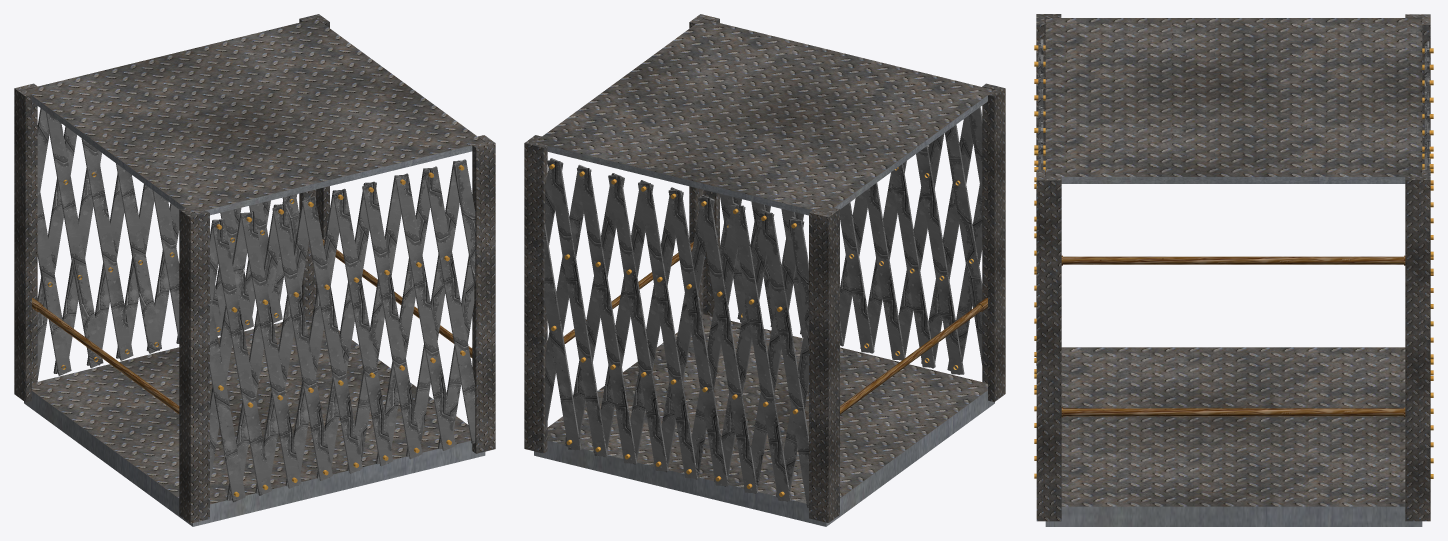
File: Elevator1.fbx
3 views of the same model, side by side, from view 1: azimuth 30°, elevation 25°; view 2: azimuth 150°, elevation 25°; view 3: azimuth 270°, elevation 25° (orthographic). The views are drawn at different scales.
Parts seen in each view (by area): view 1: Base.009, Base.001; view 2: Base.009, Base.001; view 3: Base.009, Base.001.
Boxes of the visible parts, x1,y1,x2,y2 form: Base.009: (14, 14, 495, 526); Base.001: (37, 108, 475, 502); Base.009: (524, 14, 1005, 526); Base.001: (544, 107, 982, 507); Base.009: (1036, 14, 1430, 526); Base.001: (1034, 39, 1433, 478).
Size of the model in its own units: 3.98 by 3.91 by 4.04.
